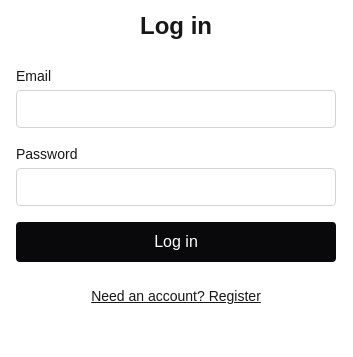
Test: login page › a rate-limited failure shows the error and does not navigate
The image size is (353, 357).
Type "a@b.test" into the field labelled "Email" at (176, 109), box [16,90,336,128]
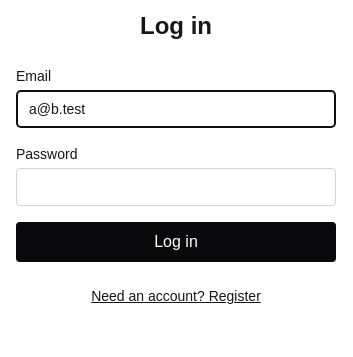
Type "wrongpassword1" into the password field labelled "Password" at (176, 187), box [16,168,336,206]
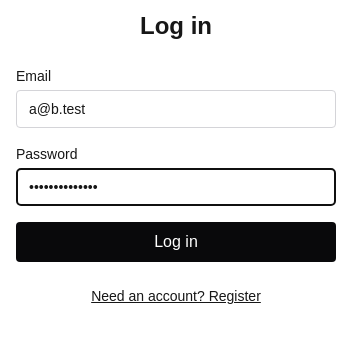
Click the button "Log in" at (176, 242), box [16,222,336,262]
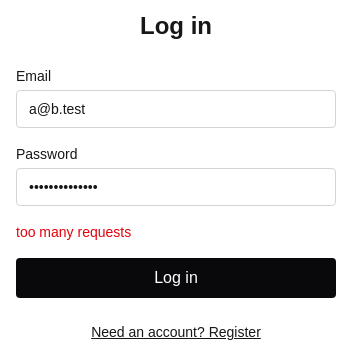
Now the message shows "too many", box [16,224,131,240]
